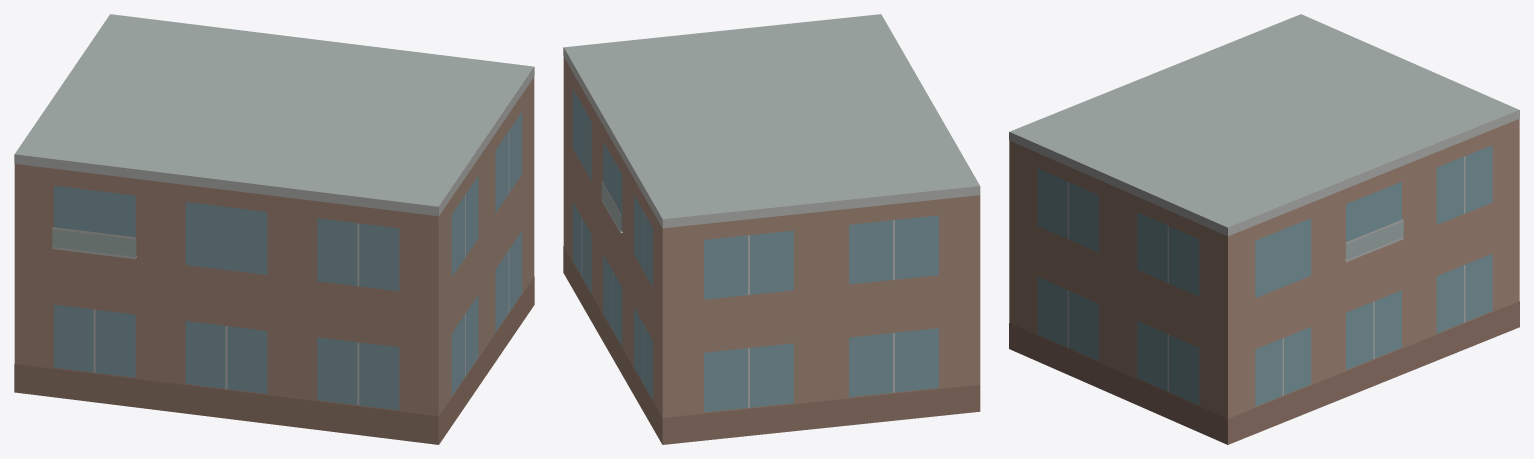
The model's file is survey-upis-32685048.glb.
The picture shows the model from 3 angles, left to right: view 1: azimuth 30°, elevation 25°; view 2: azimuth 150°, elevation 25°; view 3: azimuth 270°, elevation 25°; orthographic projection. The views are drawn at different scales.
Parts seen in each view (by area): view 1: survey-upis-32685048.tmp; view 2: survey-upis-32685048.tmp; view 3: survey-upis-32685048.tmp.
Part boxes in pixels (box(x1,y1,x2,y2)): survey-upis-32685048.tmp: box(14, 14, 534, 444); survey-upis-32685048.tmp: box(563, 14, 980, 444); survey-upis-32685048.tmp: box(1009, 14, 1519, 444).
Bounding box in the file's own units: 12.88 × 6.1 × 13.
